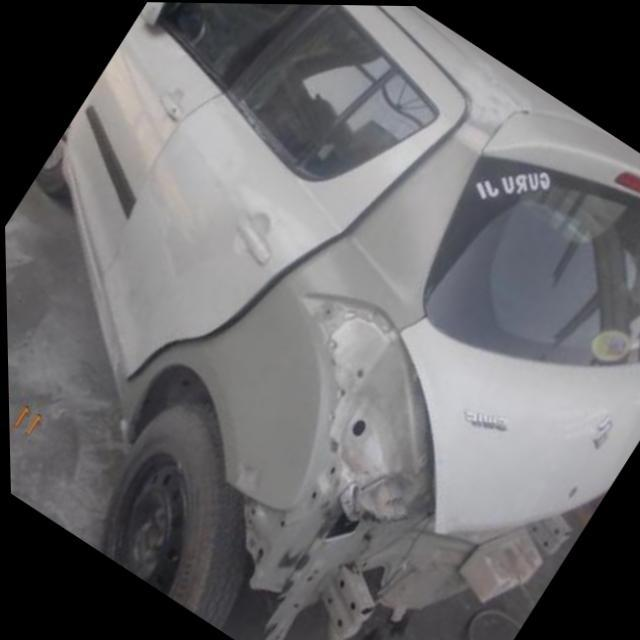dent: (110, 109, 497, 503)
no part: (220, 284, 567, 640)
